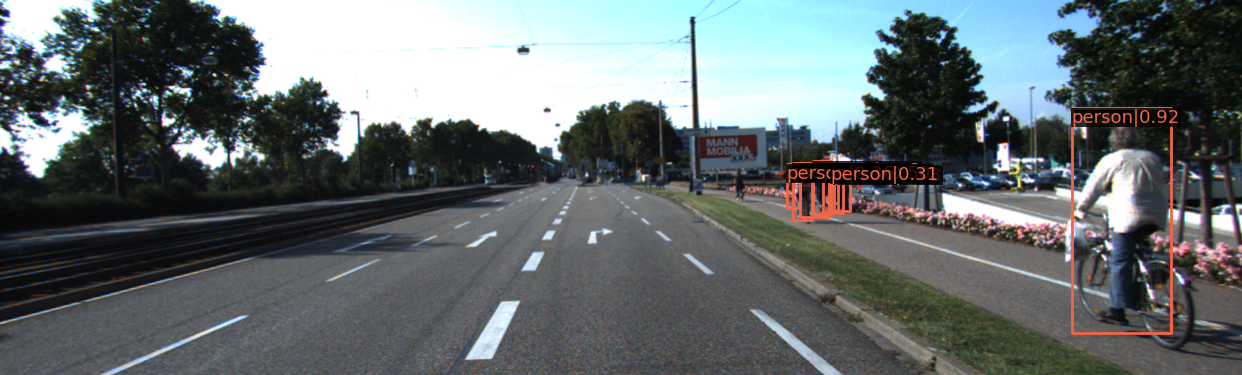person: (813, 166, 834, 215), (835, 166, 853, 215)
